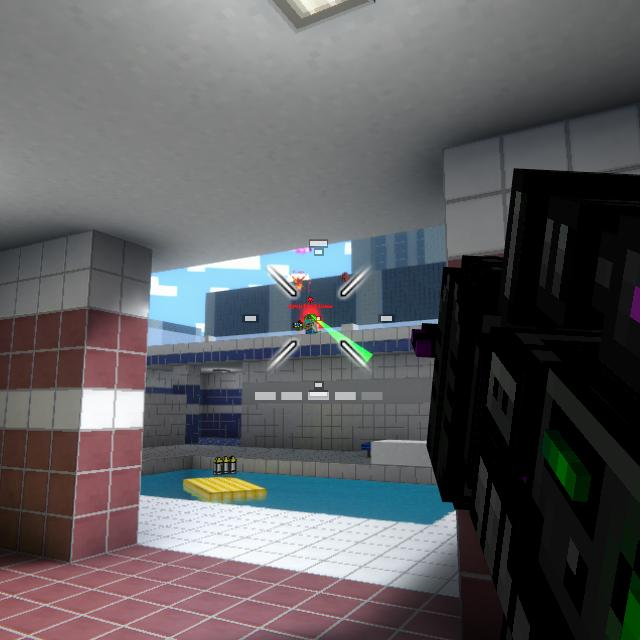Enemy: (298, 312, 321, 333)
